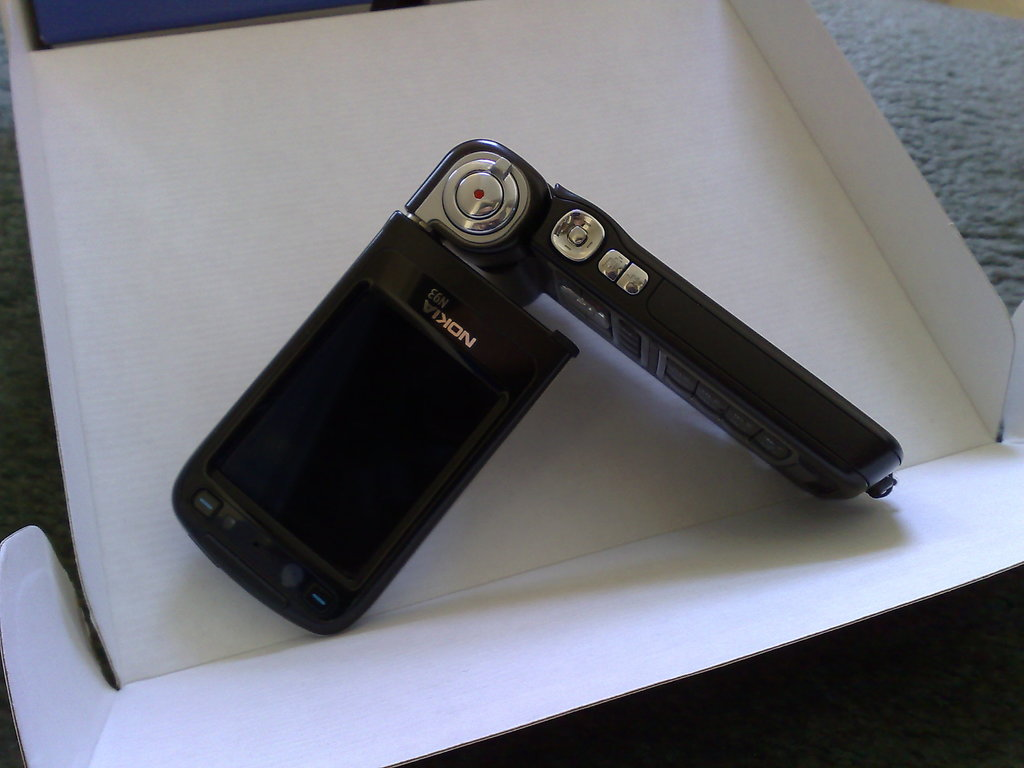mobile phone: (152, 100, 872, 639)
